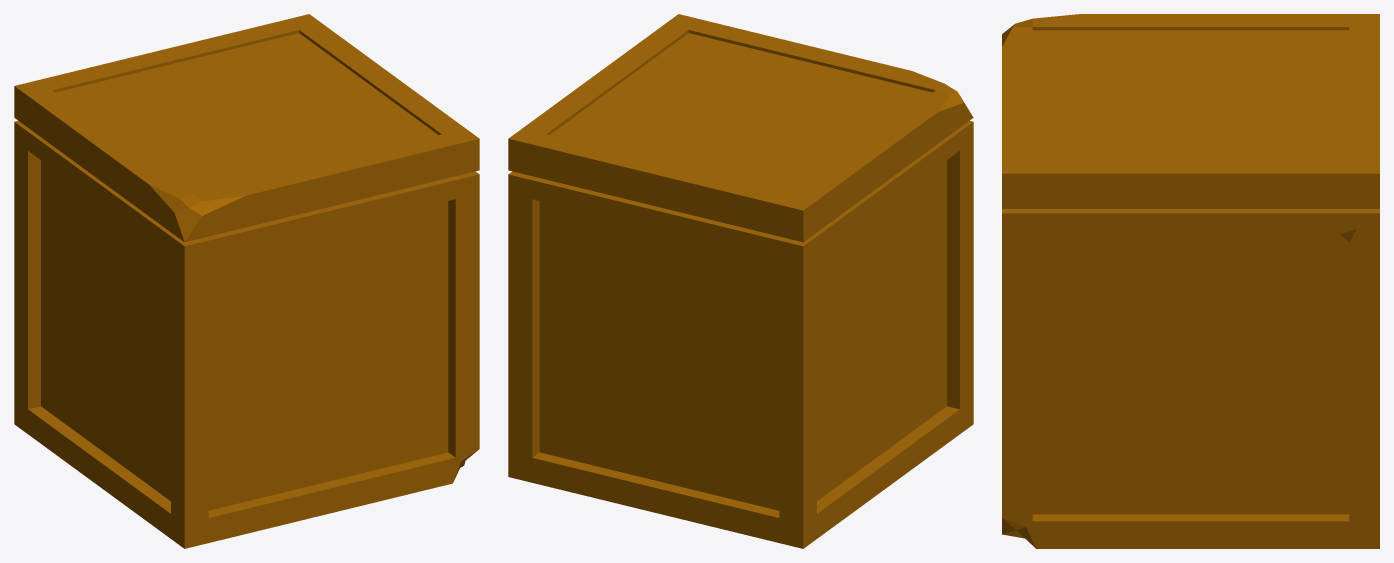
3 renders of one model, left to right at view 1: azimuth 30°, elevation 25°; view 2: azimuth 150°, elevation 25°; view 3: azimuth 270°, elevation 25°, orthographic. The views are drawn at different scales.
Visible parts, largest first — view 1: Box_01; view 2: Box_01; view 3: Box_01.
Part boxes in pixels (x1,y1,x2,y2): Box_01: [14, 14, 479, 548]; Box_01: [508, 14, 973, 548]; Box_01: [1002, 14, 1379, 548].
Bounding box in the file's own units: 50 × 54.8 × 50.
